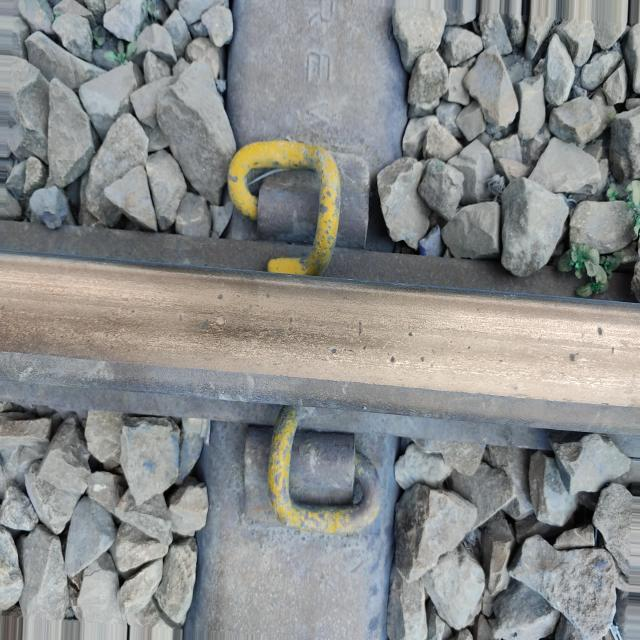Good Fasteners: (197, 105, 411, 297), (219, 387, 392, 564)
